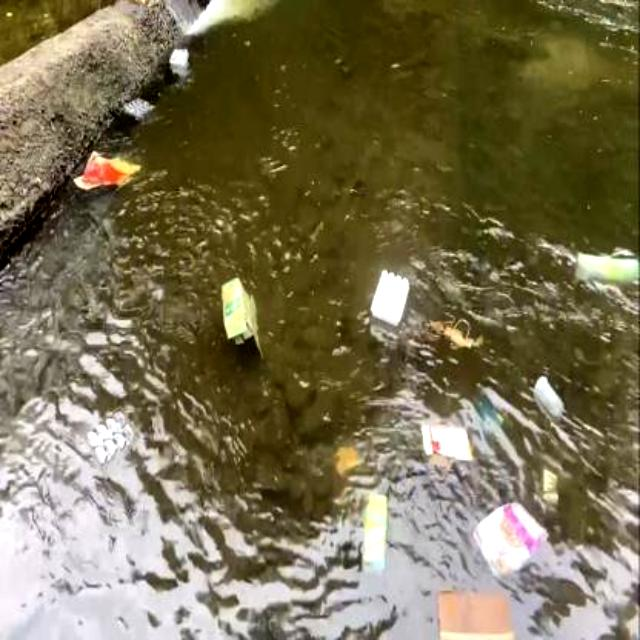Cardboard: (468, 497, 552, 583), (434, 584, 518, 640), (218, 273, 264, 359), (418, 418, 474, 478), (74, 148, 142, 196), (358, 486, 392, 578)
Metal: (569, 244, 639, 294)
Plastic: (84, 402, 142, 474), (368, 264, 412, 332), (532, 374, 568, 430), (118, 93, 160, 123), (165, 44, 192, 74)
